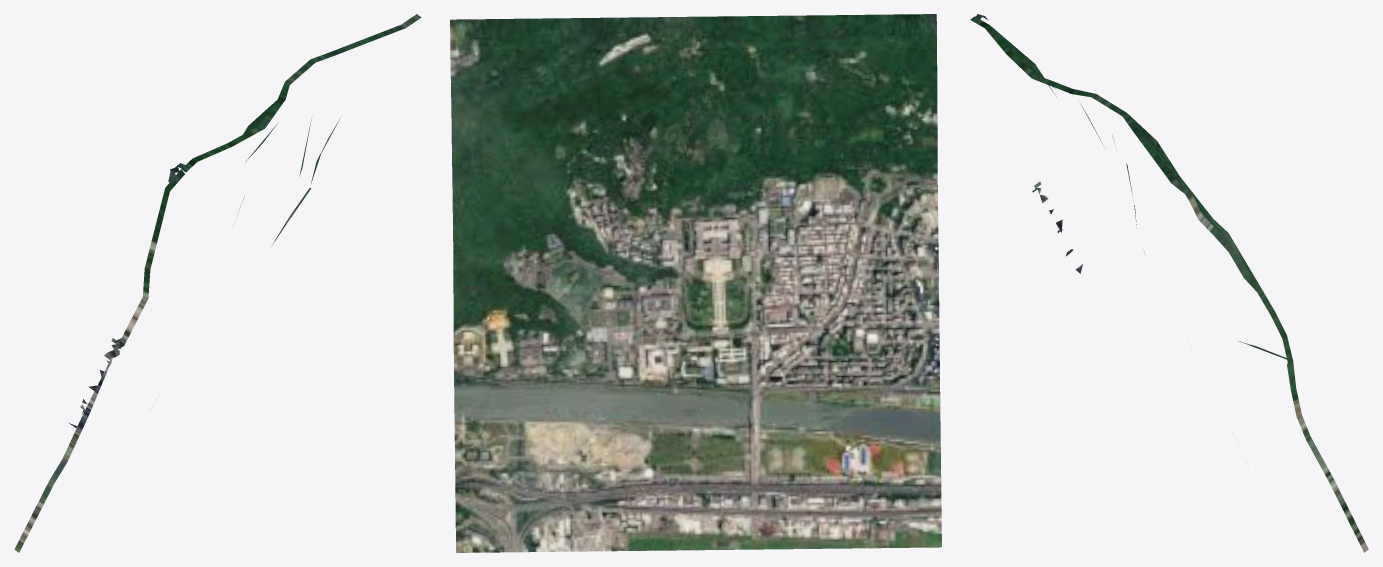
3 renders of one model, left to right at view 1: azimuth 30°, elevation 25°; view 2: azimuth 150°, elevation 25°; view 3: azimuth 270°, elevation 25°, orthographic. The views are drawn at different scales.
Size of the model in its own units: 2445 by 2288 by 1973.
Materials: 1 (1 with a texture image).
